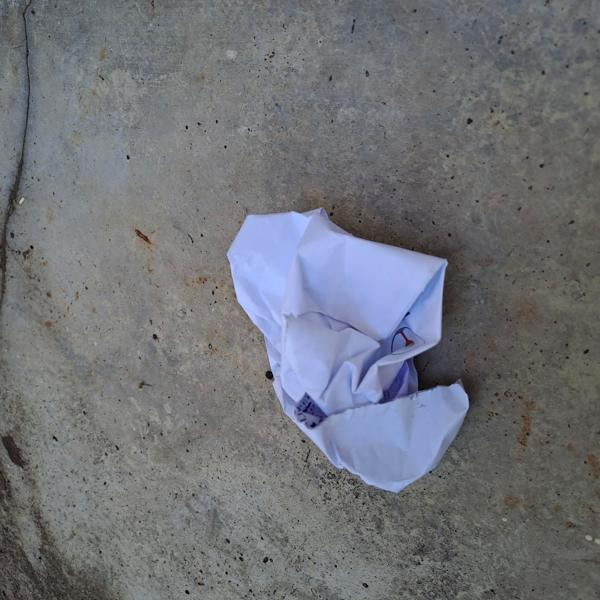Organik: (201, 213, 517, 504)
